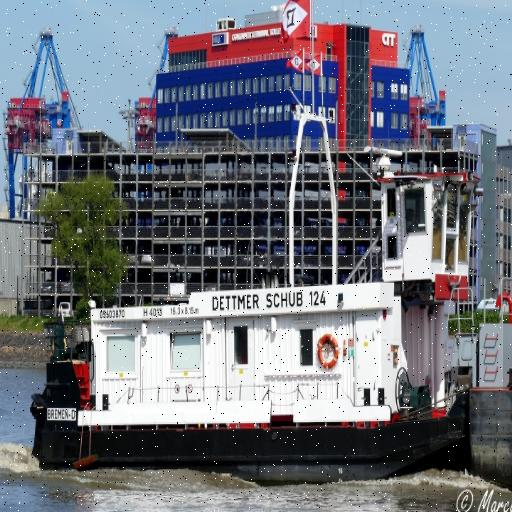tugboat: (25, 145, 512, 501)
